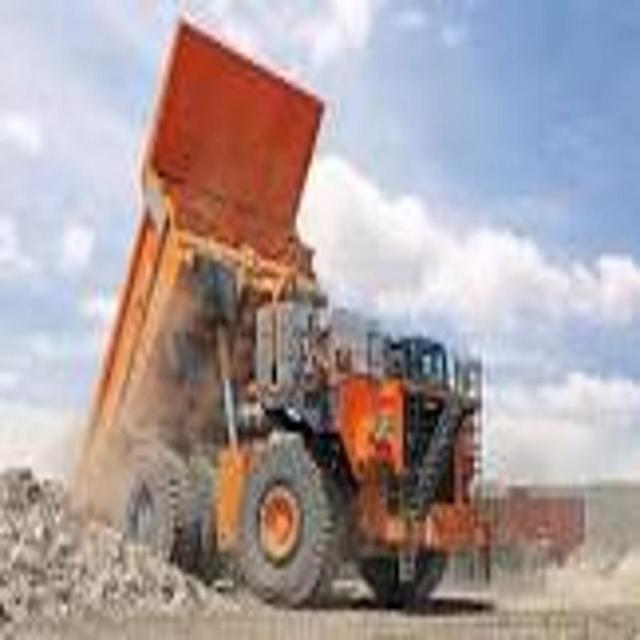dump_truck: (64, 4, 586, 640)
